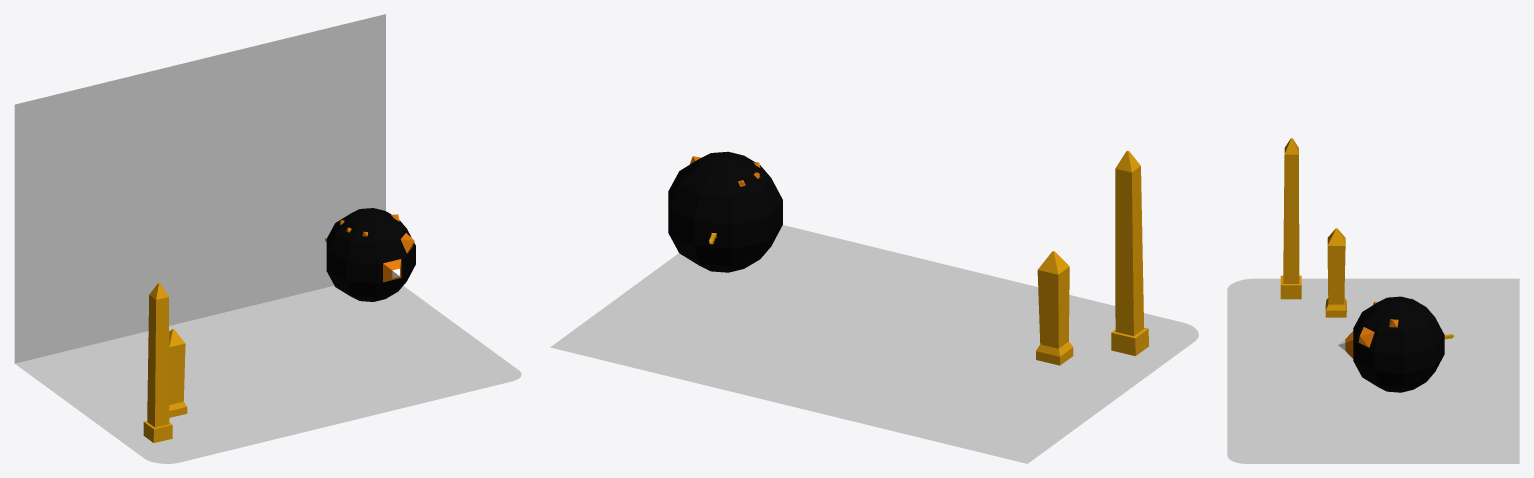
The model's file is room2.glb.
3 views of the same model, side by side, from view 1: azimuth 30°, elevation 25°; view 2: azimuth 150°, elevation 25°; view 3: azimuth 270°, elevation 25° (orthographic). The views are drawn at different scales.
Parts seen in each view (by area): view 1: Plane, Cube, Sphere, Masala; view 2: Cube, Sphere, Masala; view 3: Cube, Sphere, Masala.
Part boxes in pixels (<box>): Plane: <box>14,14,385,363</box>; Cube: <box>15,285,521,463</box>; Sphere: <box>325,208,415,301</box>; Masala: <box>143,283,187,442</box>; Cube: <box>550,225,1198,463</box>; Sphere: <box>668,151,782,272</box>; Masala: <box>1036,150,1148,365</box>; Cube: <box>1227,278,1519,463</box>; Sphere: <box>1338,296,1453,392</box>; Masala: <box>1280,138,1346,317</box>.
Bounding box in the file's own units: 6 × 4 × 4.
